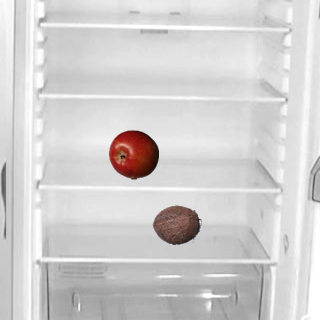Apple Braeburn: (108, 129, 158, 179)
Cocos: (151, 199, 201, 249)
